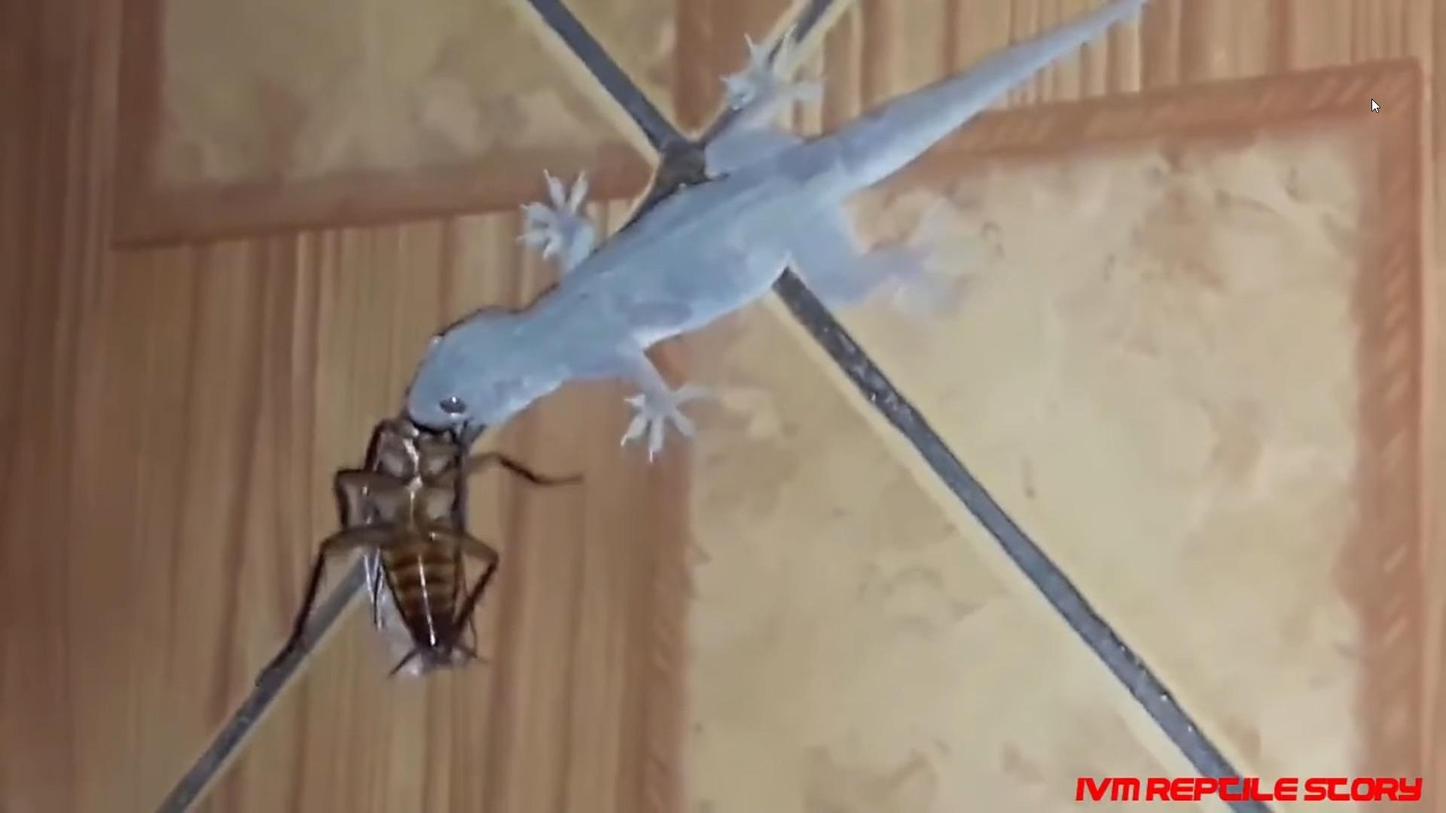cockroach: (300, 429, 536, 683)
lizard: (393, 17, 1015, 478)
